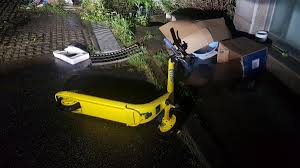fallin_kick: (54, 39, 190, 137)
